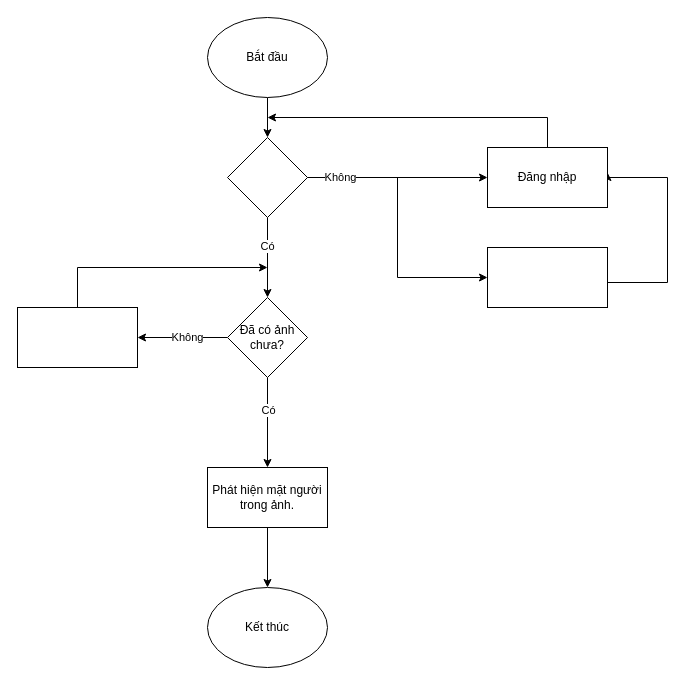
This 693x685 diagram has some shape labels left out. The centre of each missing label's shape, as x and y in pixels:
"Tải ảnh lên." belongs at pixel 77 337.
"Đã đăng nhập?" belongs at pixel 267 177.
"Đăng ký" belongs at pixel 547 277.
